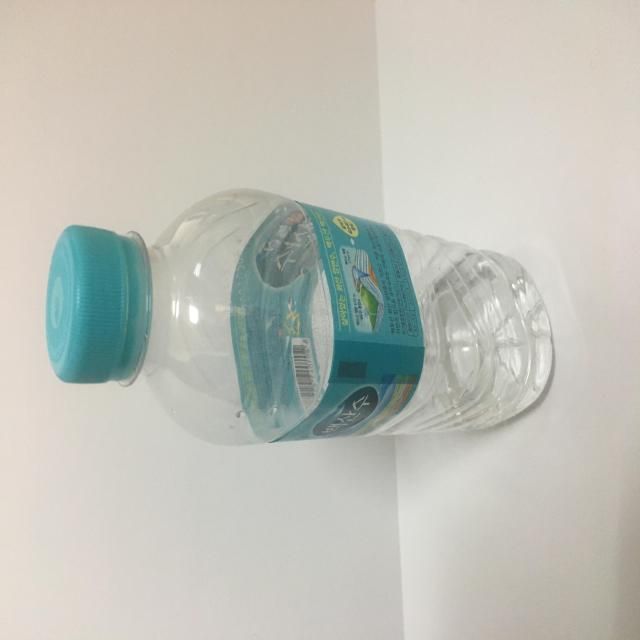bottle: (42, 186, 552, 451)
